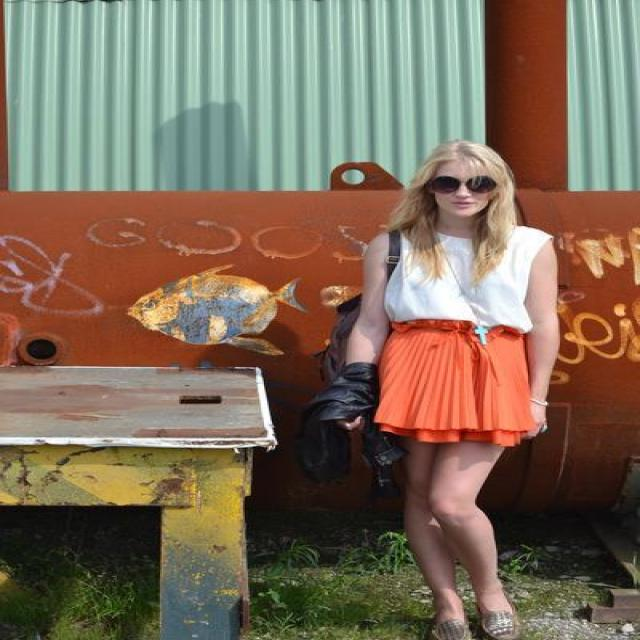shirt: (384, 225, 552, 344)
shoe: (442, 576, 516, 639)
skirt: (374, 319, 546, 445)
sunglass: (466, 176, 496, 193)
